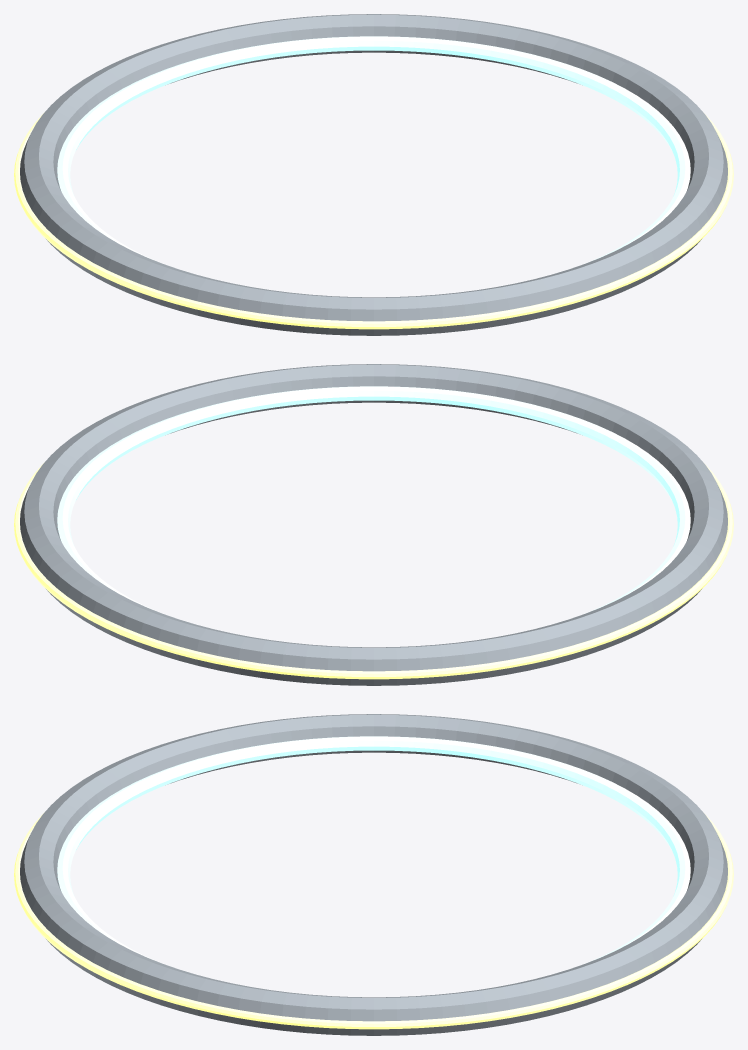
Rendered from 09_PS_Studio_CeilingHaloMain.fbx.
3 renders of one model, top to bottom at view 1: azimuth 30°, elevation 25°; view 2: azimuth 150°, elevation 25°; view 3: azimuth 270°, elevation 25°, orthographic.
Visible parts, largest first — view 1: PS_Studio_CeilingHaloMain_Piece_0000, PS_Studio_CeilingHaloMain_Piece_0001, PS_Studio_CeilingHaloMain_Piece_0002; view 2: PS_Studio_CeilingHaloMain_Piece_0000, PS_Studio_CeilingHaloMain_Piece_0001, PS_Studio_CeilingHaloMain_Piece_0002; view 3: PS_Studio_CeilingHaloMain_Piece_0000, PS_Studio_CeilingHaloMain_Piece_0001, PS_Studio_CeilingHaloMain_Piece_0002.
Boxes of the visible parts, x1=… form: PS_Studio_CeilingHaloMain_Piece_0000: x1=20, y1=14, x2=727, y2=335; PS_Studio_CeilingHaloMain_Piece_0001: x1=57, y1=36, x2=690, y2=260; PS_Studio_CeilingHaloMain_Piece_0002: x1=14, y1=112, x2=733, y2=329; PS_Studio_CeilingHaloMain_Piece_0000: x1=20, y1=364, x2=727, y2=685; PS_Studio_CeilingHaloMain_Piece_0001: x1=57, y1=386, x2=690, y2=610; PS_Studio_CeilingHaloMain_Piece_0002: x1=14, y1=462, x2=733, y2=679; PS_Studio_CeilingHaloMain_Piece_0000: x1=20, y1=714, x2=727, y2=1035; PS_Studio_CeilingHaloMain_Piece_0001: x1=57, y1=736, x2=690, y2=960; PS_Studio_CeilingHaloMain_Piece_0002: x1=14, y1=812, x2=733, y2=1029.
Size of the model in its own units: 666 by 38 by 666.
